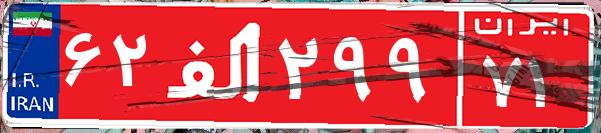1: (525, 38, 570, 115)
2: (273, 28, 330, 110), (110, 28, 158, 105)
6: (57, 26, 110, 107)
7: (475, 38, 525, 113)
9: (385, 28, 445, 110), (330, 28, 385, 110)
الف: (158, 15, 273, 115)
